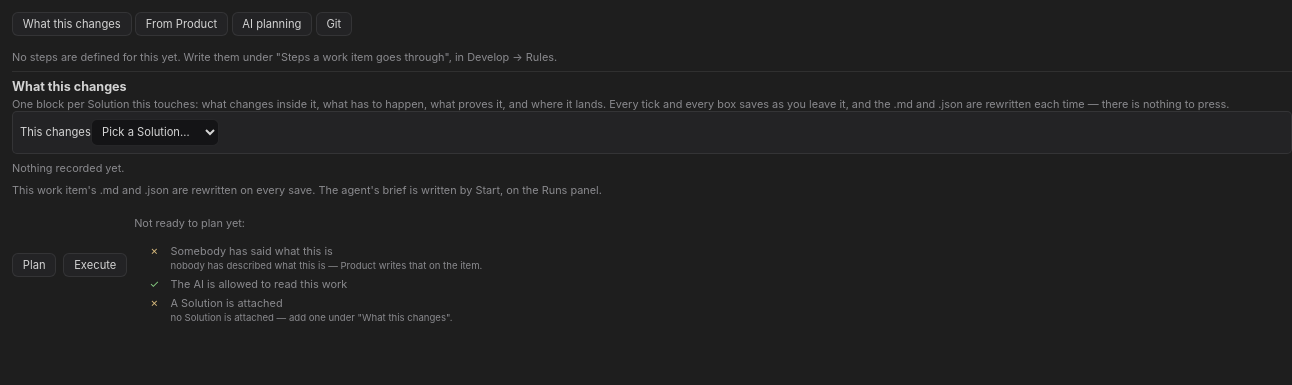
WorkItemBuildPlan › lists everything missing, not only the first thing
Expected: the list named "Before planning" shows "nobody has described what this is", [170,260,482,271]
Expected: the list named "Before planning" shows "no Solution is attached", [170,312,452,323]
# Pressing anyway refuses in those same words rather than going quiet.
Click the button with aria-label "Plan Add checkout": (34, 265) [12,253,56,278]
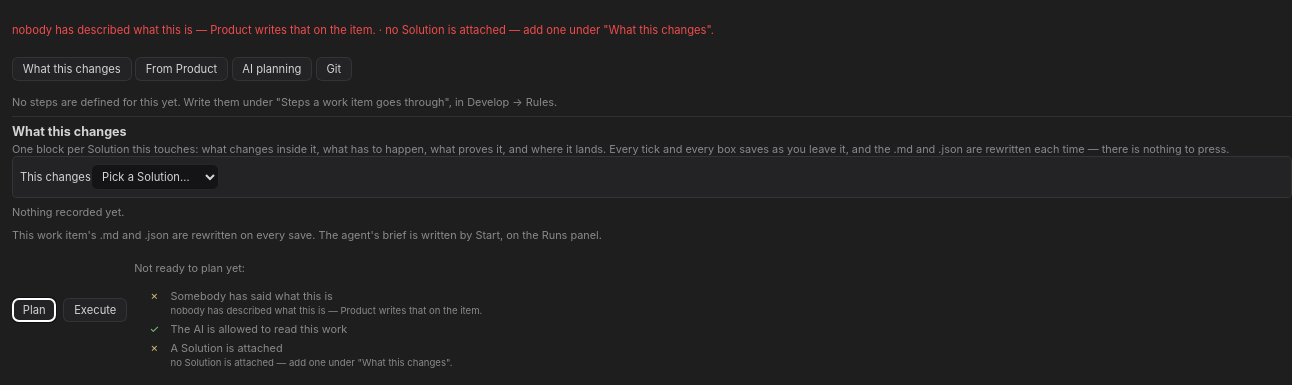
Now the message shows "nobody has described", box [12,23,714,37]
